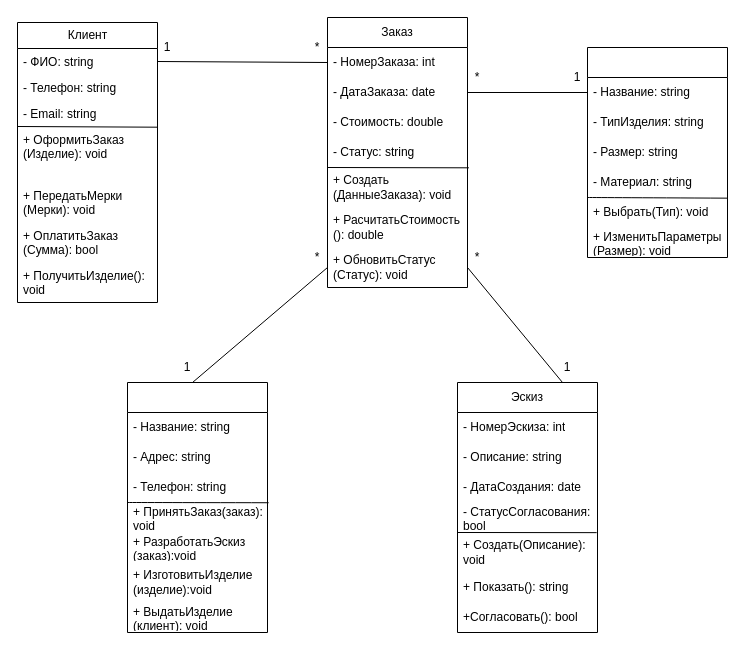
This 746x650 diagram has some shape labels left out. Each missing label, with the box of its shape:
Ателье: (126, 382, 268, 632)
Изделие: (586, 46, 728, 258)
